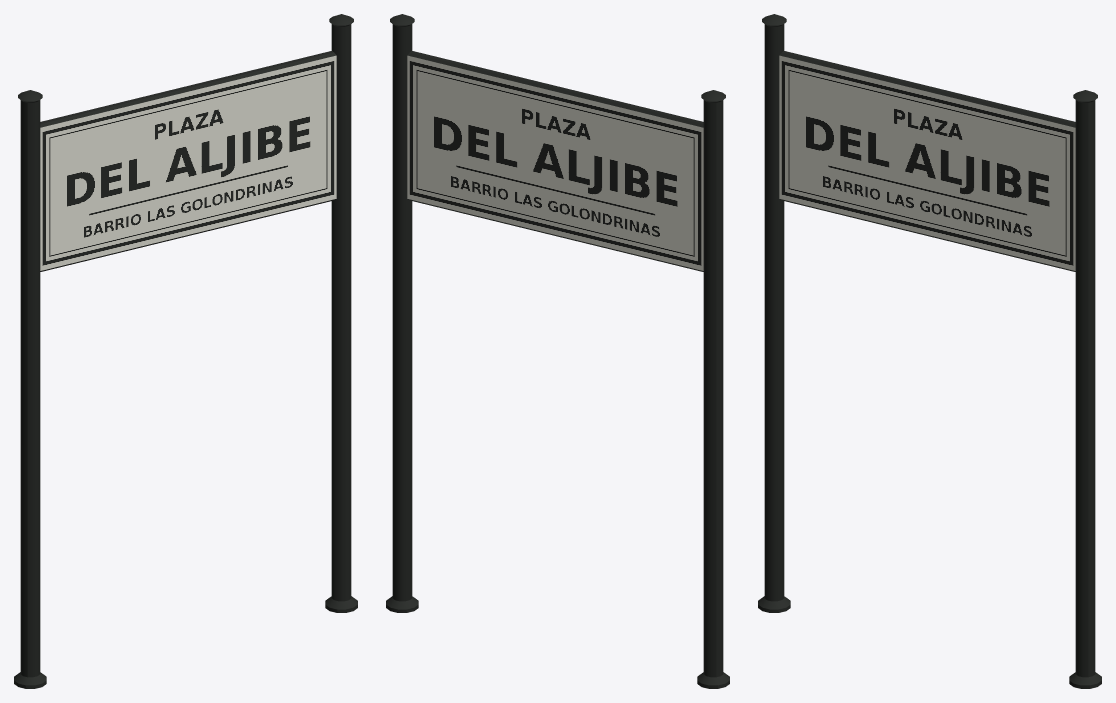
Rendered from cartel_plaza.glb.
3 views of the same model, side by side, from view 1: azimuth 30°, elevation 25°; view 2: azimuth 150°, elevation 25°; view 3: azimuth 330°, elevation 25° (orthographic).
Parts seen in each view (by area): view 1: cartel_plaza_cuerpo; view 2: cartel_plaza_cuerpo; view 3: cartel_plaza_cuerpo.
Part boxes in pixels (bbox=[...]): cartel_plaza_cuerpo: bbox=[14, 14, 357, 688]; cartel_plaza_cuerpo: bbox=[386, 14, 729, 688]; cartel_plaza_cuerpo: bbox=[758, 14, 1101, 688].
Size of what is drawn, in the model's own units: 1.2 by 2 by 0.1.
Materials: 2 (1 with a texture image).
